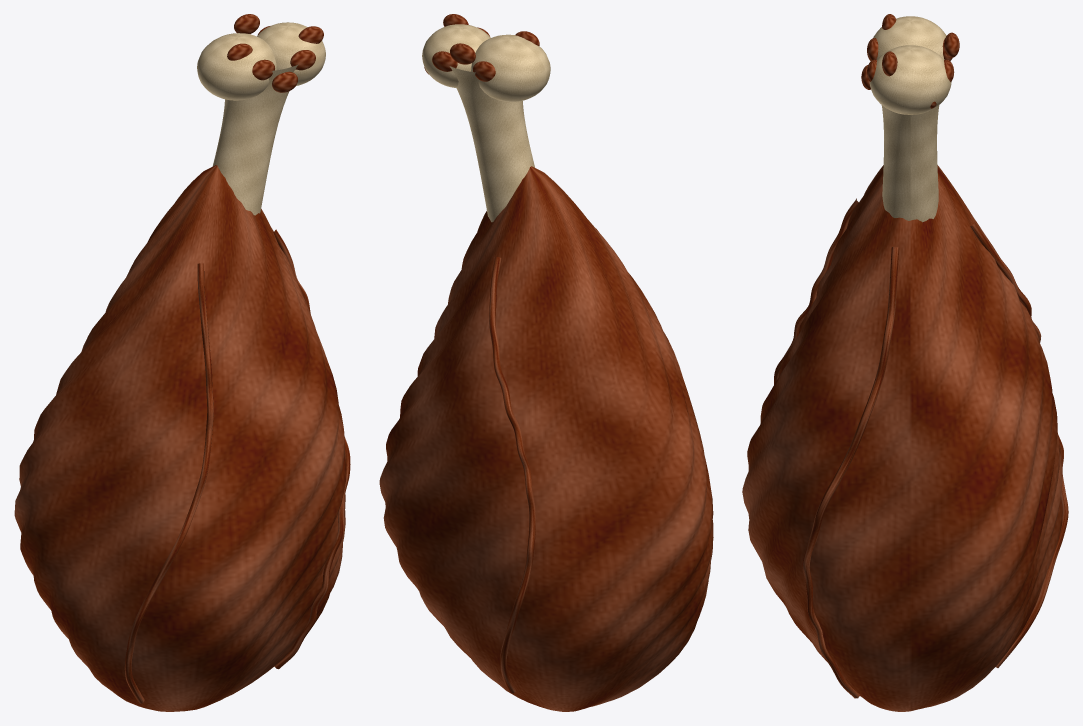
Rendered from roast_game.glb.
The picture shows the model from 3 angles, left to right: view 1: azimuth 30°, elevation 25°; view 2: azimuth 150°, elevation 25°; view 3: azimuth 270°, elevation 25°; orthographic projection. The views are drawn at different scales.
Parts seen in each view (by area): view 1: Game roast flesh, Exposed joint bone, Rendered fat; view 2: Game roast flesh, Exposed joint bone, Rendered fat; view 3: Game roast flesh, Exposed joint bone, Rendered fat.
Boxes of the visible parts, bbox=[...] form: Game roast flesh: bbox=[14, 14, 346, 711]; Exposed joint bone: bbox=[197, 22, 325, 215]; Rendered fat: bbox=[124, 229, 350, 703]; Game roast flesh: bbox=[379, 14, 713, 711]; Exposed joint bone: bbox=[422, 24, 550, 222]; Rendered fat: bbox=[489, 229, 712, 693]; Game roast flesh: bbox=[742, 14, 1062, 711]; Exposed joint bone: bbox=[869, 16, 951, 222]; Rendered fat: bbox=[774, 198, 1068, 698].
Bounding box in the file's own units: 0.1934 × 0.4 × 0.1659.
Materials: 3 (3 with a texture image).
